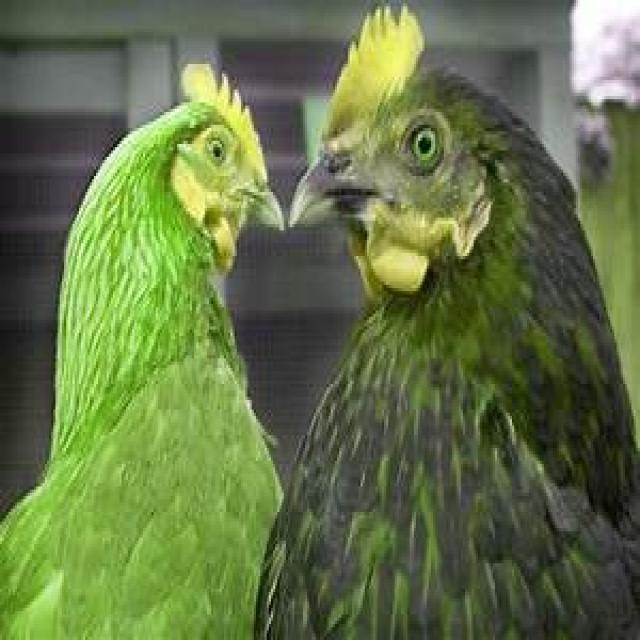hen: (252, 6, 640, 640), (0, 64, 284, 640)
